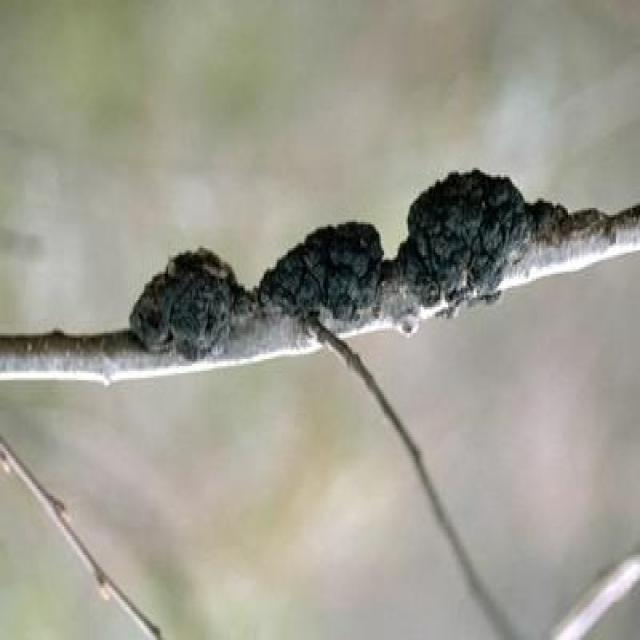Black_knot: (126, 163, 638, 364), (400, 166, 530, 310), (126, 244, 244, 362)
